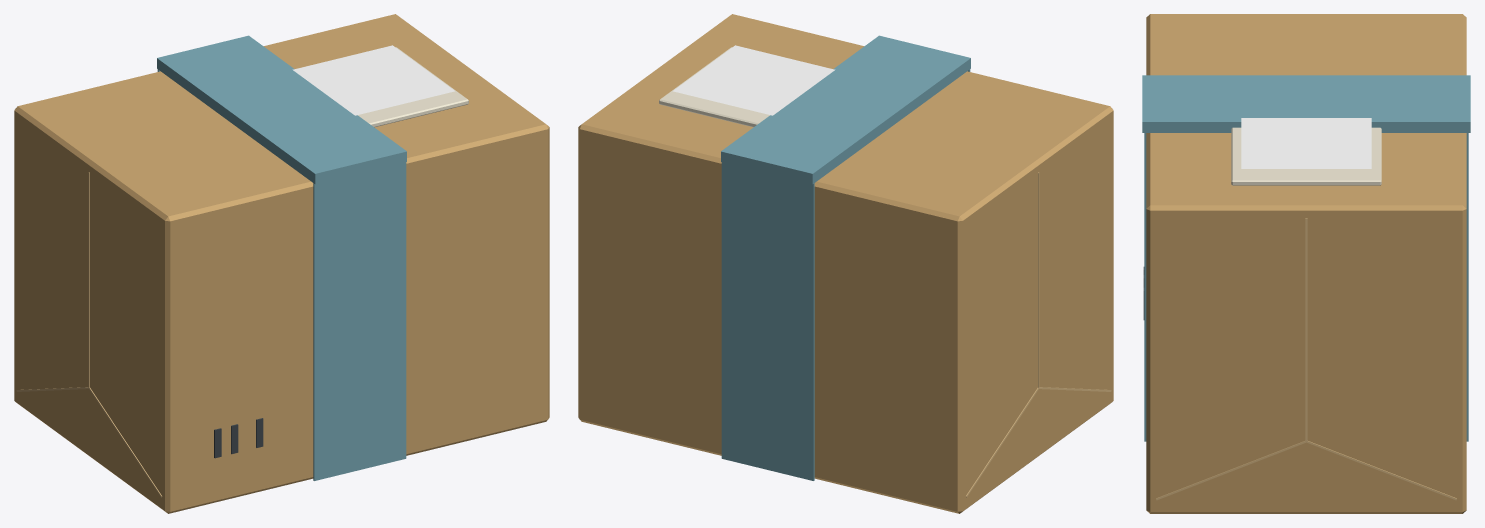
File: Parcel.fbx
3 renders of one model, left to right at view 1: azimuth 30°, elevation 25°; view 2: azimuth 150°, elevation 25°; view 3: azimuth 270°, elevation 25°, orthographic. The views are drawn at different scales.
Parts seen in each view (by area): view 1: WrappedParcel, StaticDetails, ParcelBand, ArtworkSurface; view 2: WrappedParcel, StaticDetails, ParcelBand, ArtworkSurface; view 3: WrappedParcel, ParcelBand, StaticDetails, ArtworkSurface.
Boxes of the visible parts, bbox=[...] form: WrappedParcel: bbox=[14, 14, 549, 513]; StaticDetails: bbox=[16, 47, 468, 497]; ParcelBand: bbox=[157, 35, 406, 184]; ArtworkSurface: bbox=[292, 45, 454, 115]; WrappedParcel: bbox=[578, 14, 1113, 513]; StaticDetails: bbox=[659, 47, 1111, 497]; ParcelBand: bbox=[721, 35, 970, 184]; ArtworkSurface: bbox=[673, 45, 835, 115]; WrappedParcel: bbox=[1146, 14, 1466, 513]; ParcelBand: bbox=[1142, 75, 1470, 132]; StaticDetails: bbox=[1143, 127, 1468, 500]; ArtworkSurface: bbox=[1241, 118, 1371, 168].
Size of the model in its own units: 23.08 by 17.7 by 16.4.
